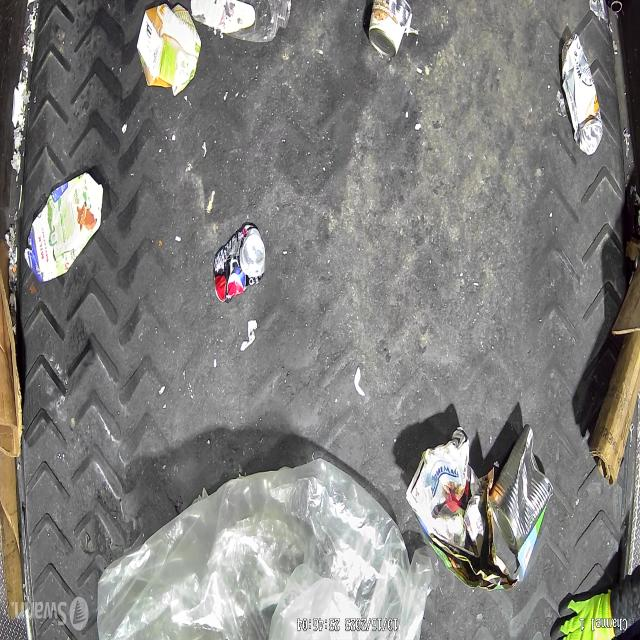can: (490, 428, 554, 558), (561, 32, 603, 156), (212, 223, 266, 304), (368, 0, 412, 57)
non_white_jug: (24, 173, 102, 283), (136, 3, 202, 97)
plastic_bottle: (190, 0, 291, 43)
